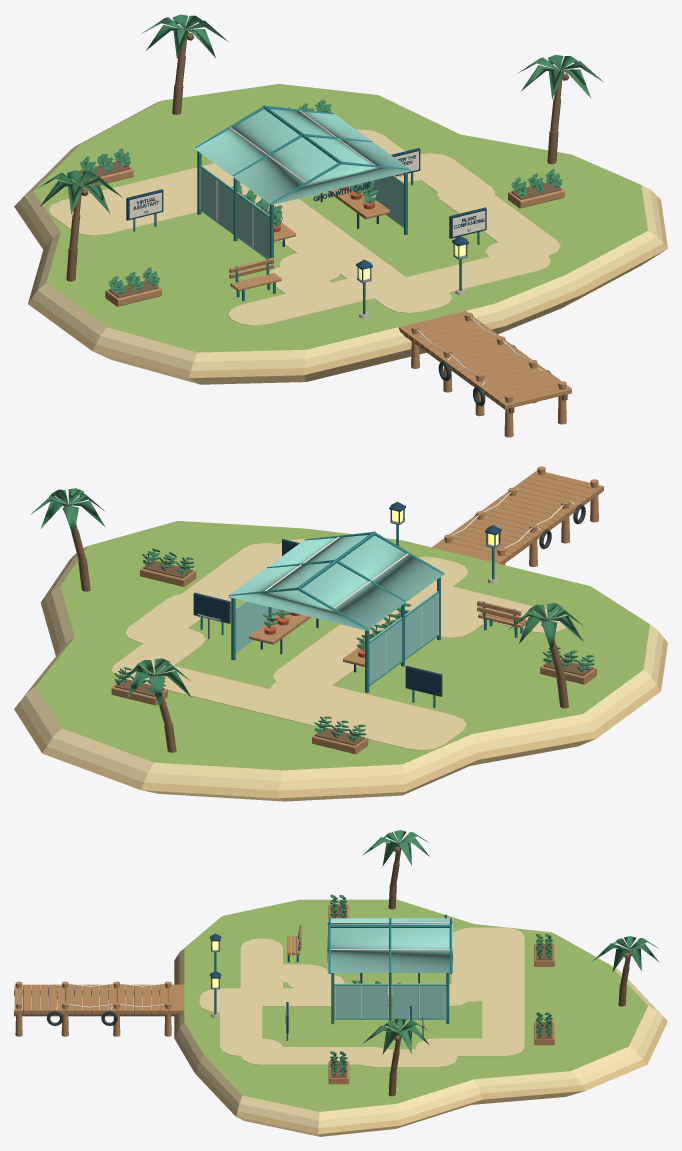
Rendered from visionx.glb.
The picture shows the model from 3 angles, top to bottom: view 1: azimuth 30°, elevation 25°; view 2: azimuth 150°, elevation 25°; view 3: azimuth 270°, elevation 25°; orthographic projection. The views are drawn at different scales.
Parts seen in each view (by area): view 1: static_grass, static_sand, static_wood, occluder_visionx_roof_glass, static_sandEdge, static_glass, static_leaf, static_teal, occluder_visionx_roof_teal, occluder_visionx_tree_12_leaf, occluder_visionx_tree_4_leaf, occluder_visionx_tree_8_leaf (+6 smaller); view 2: static_grass, static_sand, static_wood, occluder_visionx_roof_glass, static_sandEdge, static_glass, static_leaf, static_teal, occluder_visionx_roof_teal, static_darkWood, occluder_visionx_tree_8_leaf, occluder_visionx_tree_12_leaf (+8 smaller); view 3: static_grass, static_sand, static_wood, occluder_visionx_roof_glass, static_sandEdge, static_glass, static_darkWood, static_leaf, static_teal, occluder_visionx_tree_4_leaf, occluder_visionx_tree_8_leaf, occluder_visionx_tree_12_leaf (+2 smaller).
Boxes of the visible parts, x1,y1,x2,y2 form: static_grass: [33, 84, 647, 352]; static_sand: [19, 101, 663, 370]; static_wood: [80, 166, 571, 437]; occluder_visionx_roof_glass: [193, 109, 412, 204]; static_sandEdge: [14, 196, 667, 384]; static_glass: [200, 165, 403, 258]; static_leaf: [80, 99, 562, 294]; static_teal: [197, 151, 461, 314]; occluder_visionx_roof_teal: [194, 105, 410, 205]; occluder_visionx_tree_12_leaf: [517, 54, 603, 99]; occluder_visionx_tree_4_leaf: [35, 170, 122, 214]; occluder_visionx_tree_8_leaf: [141, 14, 228, 58]; static_grass: [35, 521, 649, 770]; static_sand: [19, 539, 663, 790]; static_wood: [111, 466, 603, 754]; occluder_visionx_roof_glass: [227, 535, 445, 630]; static_sandEdge: [14, 556, 667, 801]; static_glass: [235, 591, 438, 684]; static_leaf: [114, 548, 594, 741]; static_teal: [231, 524, 523, 692]; occluder_visionx_roof_teal: [228, 531, 443, 631]; static_darkWood: [115, 498, 593, 745]; occluder_visionx_tree_8_leaf: [116, 658, 191, 707]; occluder_visionx_tree_12_leaf: [30, 488, 105, 537]; static_grass: [184, 899, 647, 1111]; static_sand: [176, 917, 662, 1127]; static_wood: [14, 904, 554, 1084]; occluder_visionx_roof_glass: [327, 918, 452, 972]; static_sandEdge: [174, 957, 667, 1136]; static_glass: [334, 983, 445, 1018]; static_darkWood: [14, 904, 552, 1077]; static_leaf: [329, 894, 552, 1075]; static_teal: [214, 926, 449, 1024]; occluder_visionx_tree_4_leaf: [362, 830, 429, 865]; occluder_visionx_tree_8_leaf: [592, 936, 659, 971]; occluder_visionx_tree_12_leaf: [362, 1018, 429, 1054].
Size of the model in its own units: 26 by 5.56 by 31.8.
